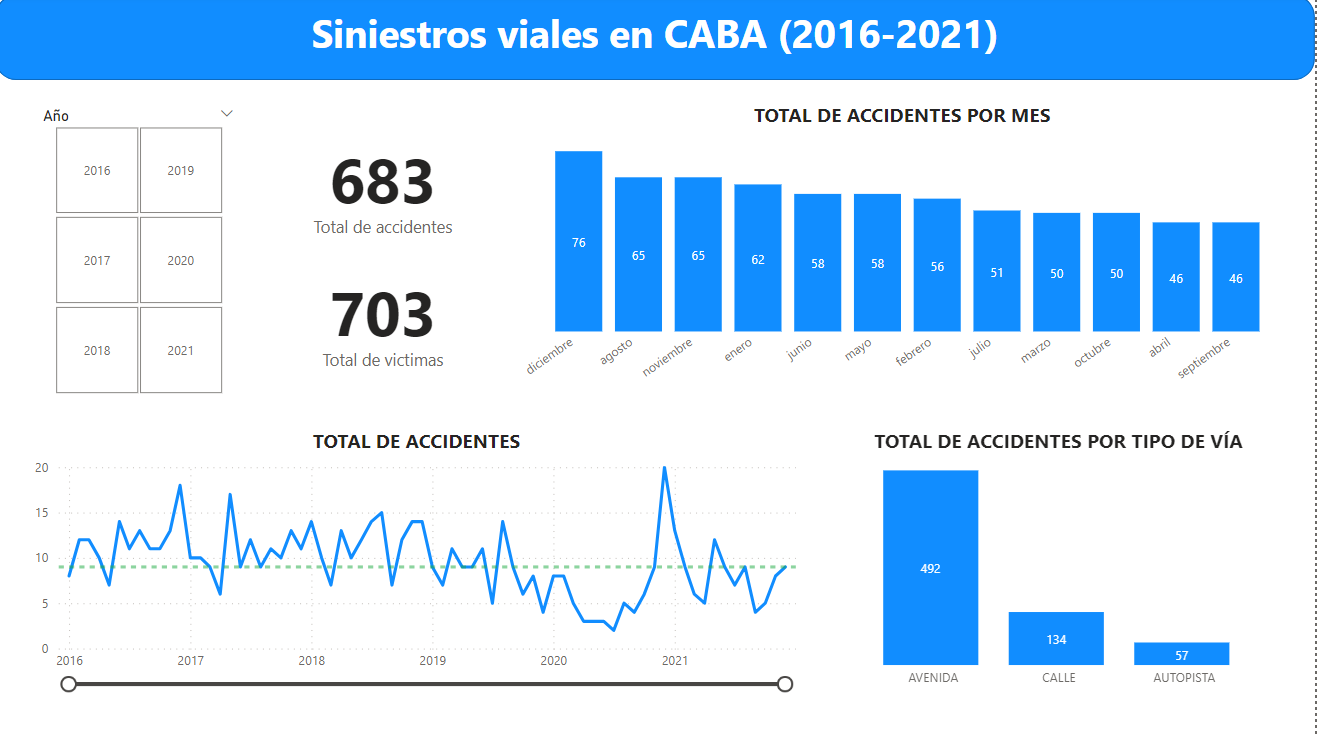

What the dashboard file says about the page in this screenshot:
{"tool":"powerbi","page":{"name":"general","canvas":[1280,720],"ordinal":0},"visuals":[{"type":"lineChart","title":"TOTAL DE ACCIDENTES","fields":{"Category":["TablaFechas.Date.Variación.Jerarquía de fechas.Año","TablaFechas.Date.Variación.Jerarquía de fechas.Trimestre","TablaFechas.Date.Variación.Jerarquía de fechas.Mes"],"Y":["medidas (2).Total accidentes"]},"box":[34,419.1,750.7,260.5],"z":0},{"type":"columnChart","title":"TOTAL DE ACCIDENTES POR MES","fields":{"Y":["medidas (2).Total accidentes"],"Category":["homicidios.NombreMes"]},"box":[505,103.3,750,291.7],"z":1000},{"type":"slicer","fields":{"Values":["TablaFechas.Date.Variación.Jerarquía de fechas.Año"]},"box":[34,103.6,210.3,289.6],"z":2000},{"type":"card","fields":{"Values":["medidas (2).Total accidentes"]},"box":[263.3,120,225,130],"z":3000},{"type":"card","fields":{"Values":["Sum(homicidios.N_VICTIMAS)"]},"box":[263.3,250,225,130],"z":4000},{"type":"columnChart","title":"TOTAL DE ACCIDENTES POR TIPO DE VÍA","fields":{"Y":["medidas (2).Total accidentes"],"Category":["homicidios.TIPO_DE_CALLE"]},"box":[807.4,419.1,448.2,260.5],"z":5000},{"type":"shape","box":[0,0,1279.8,82.5],"z":6000},{"type":"textbox","box":[0,6.5,1279.8,69.6],"z":7000}]}

Visuals, with their boxes in screenshot pixels (x1, y1, x2, y2), scaled from the page's 1280x720 canvas onto the 1317x735 screenshot:
"TOTAL DE ACCIDENTES" lineChart: locate(35, 428, 807, 694)
"TOTAL DE ACCIDENTES POR MES" columnChart: locate(520, 105, 1291, 403)
slicer - TablaFechas.Date.Variación.Jerarquía de fechas.Año: locate(35, 106, 251, 401)
card - medidas (2).Total accidentes: locate(271, 122, 502, 255)
card - Sum(homicidios.N_VICTIMAS): locate(271, 255, 502, 388)
"TOTAL DE ACCIDENTES POR TIPO DE VÍA" columnChart: locate(831, 428, 1292, 694)
shape: locate(0, 0, 1316, 84)
textbox: locate(0, 7, 1316, 78)
